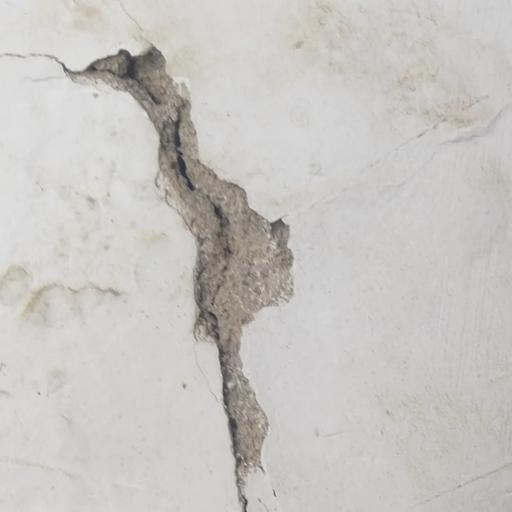spalling: (45, 25, 299, 506)
